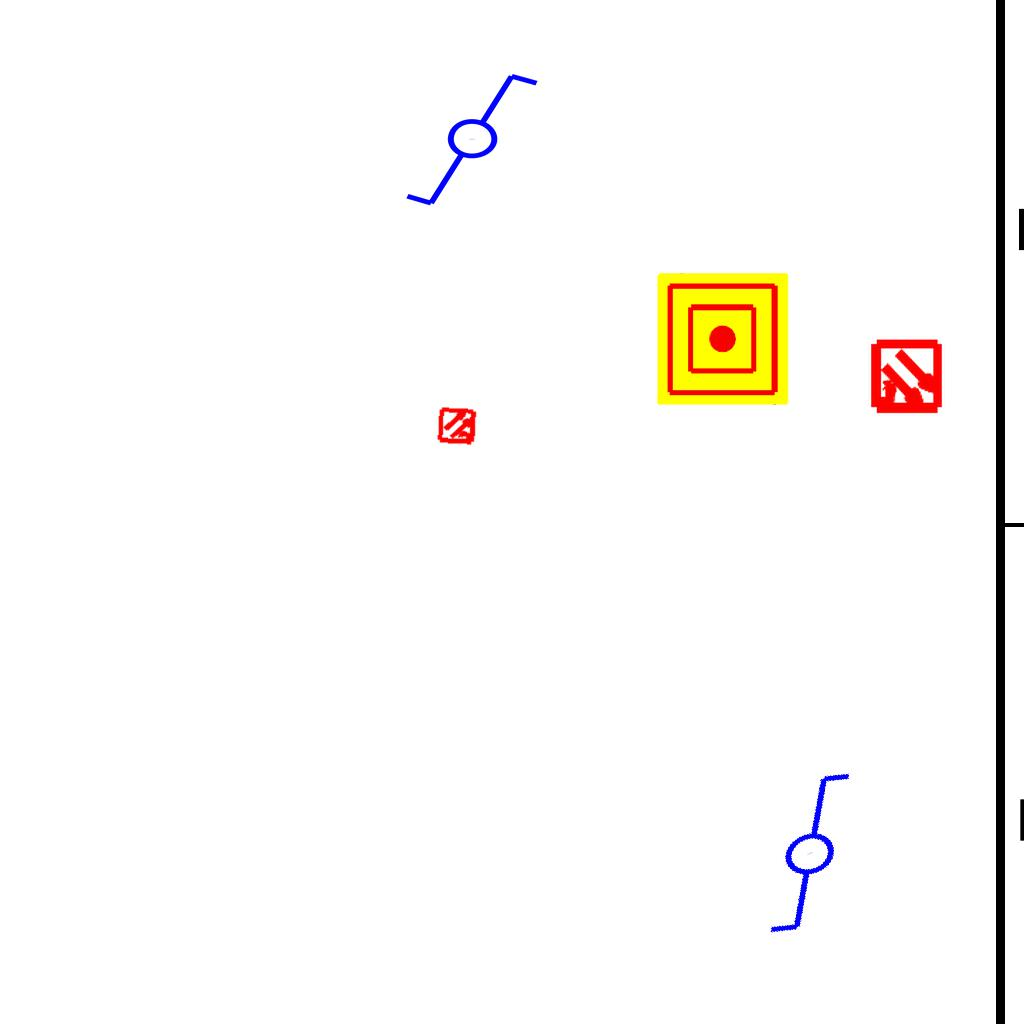NAM-Nichtautomatischer_Melder: (657, 273, 789, 405)
OT_Multisensormelder_(Kombination_RMO_WMD): (850, 322, 963, 435), (428, 396, 488, 456)
Wechselschalter: (701, 758, 902, 952), (402, 69, 559, 213)
